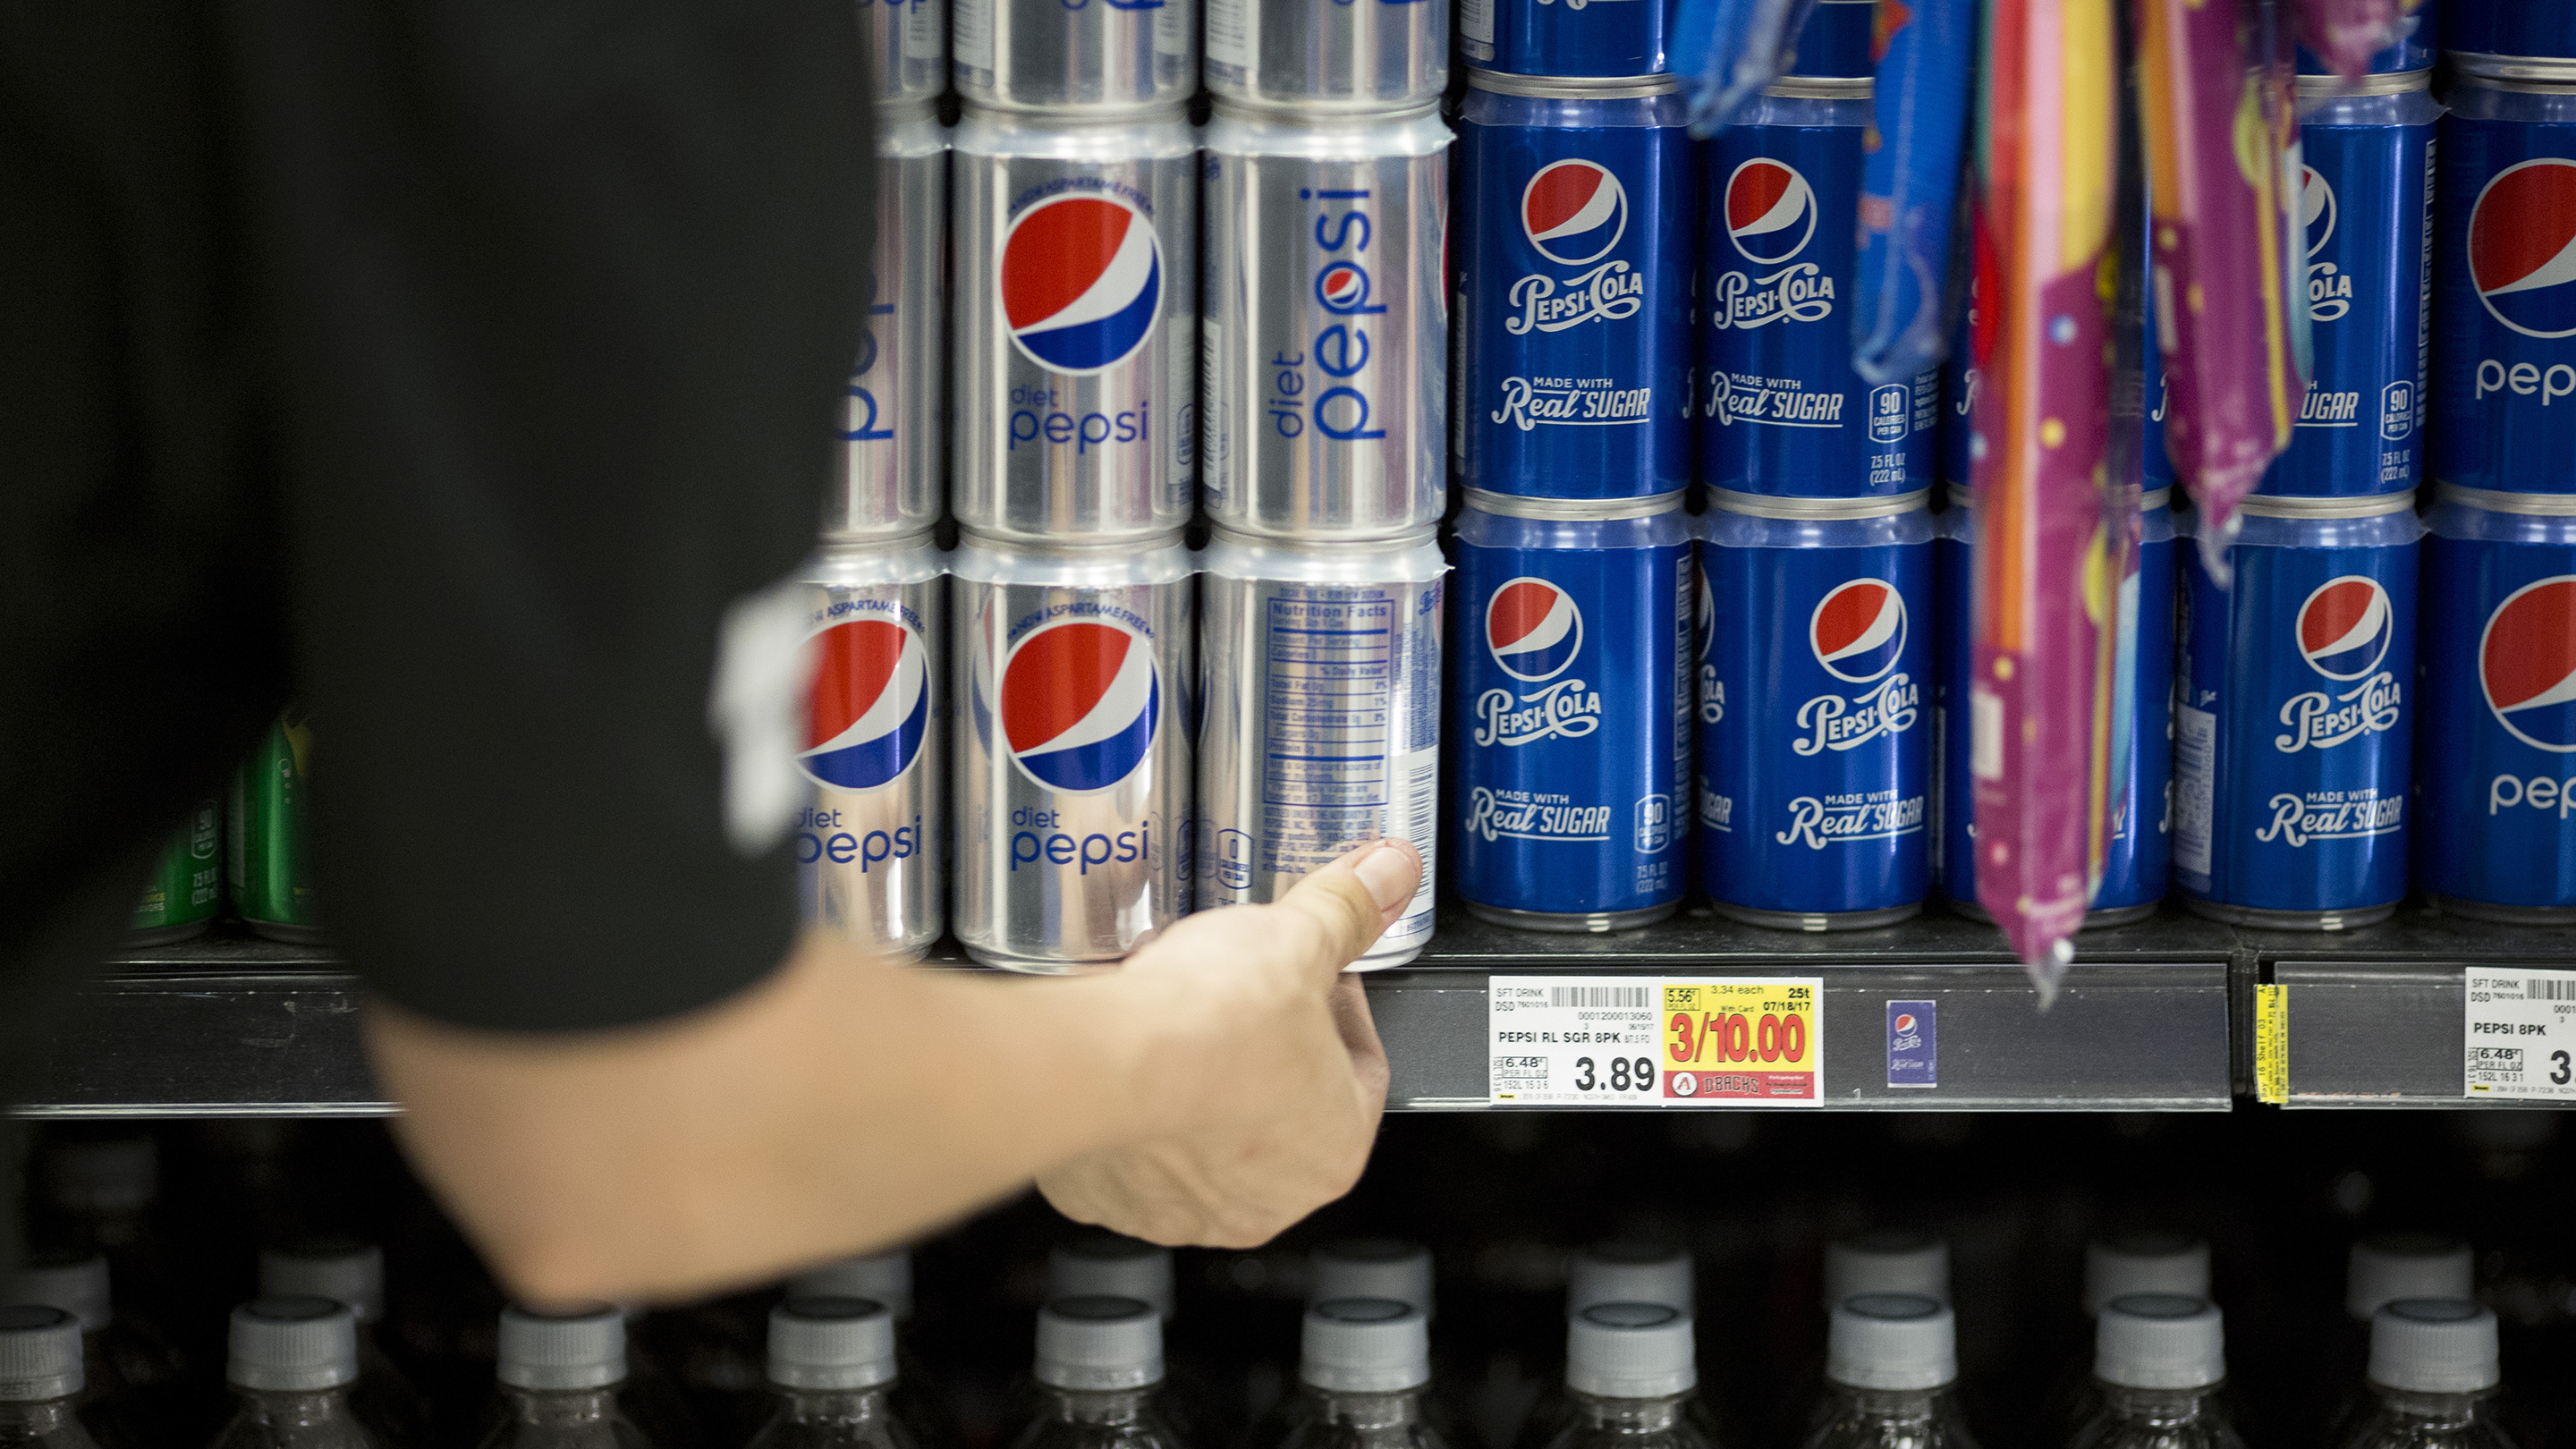pepsi: (1007, 184, 1161, 372), (1014, 607, 1159, 793), (2459, 149, 2572, 341), (812, 610, 929, 789), (2475, 557, 2572, 754), (1525, 150, 1626, 269), (1805, 571, 1909, 683), (1720, 149, 1817, 265), (1483, 566, 1578, 679), (1805, 571, 1895, 683), (2298, 563, 2388, 672)
